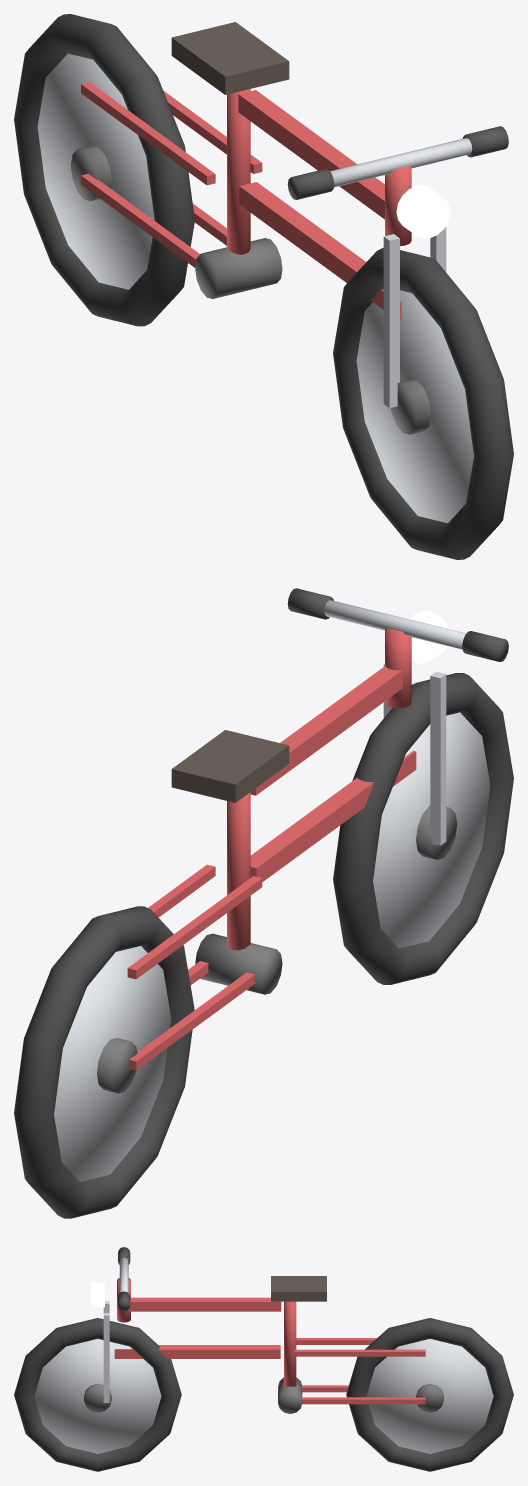
The model's file is ce68d2f1-7f62-4ce5-bfd6-ea9539013263.glb.
The picture shows the model from 3 angles, top to bottom: view 1: azimuth 30°, elevation 25°; view 2: azimuth 150°, elevation 25°; view 3: azimuth 270°, elevation 25°; orthographic projection. The views are drawn at different scales.
Parts seen in each view (by area): view 1: Generated3DMesh; view 2: Generated3DMesh; view 3: Generated3DMesh.
Boxes of the visible parts, x1=… form: Generated3DMesh: x1=14, y1=14, x2=513, y2=559; Generated3DMesh: x1=14, y1=588, x2=513, y2=1218; Generated3DMesh: x1=14, y1=1247, x2=513, y2=1471.
Bounding box in the file's own units: 0.72 × 1.25 × 2.86.
